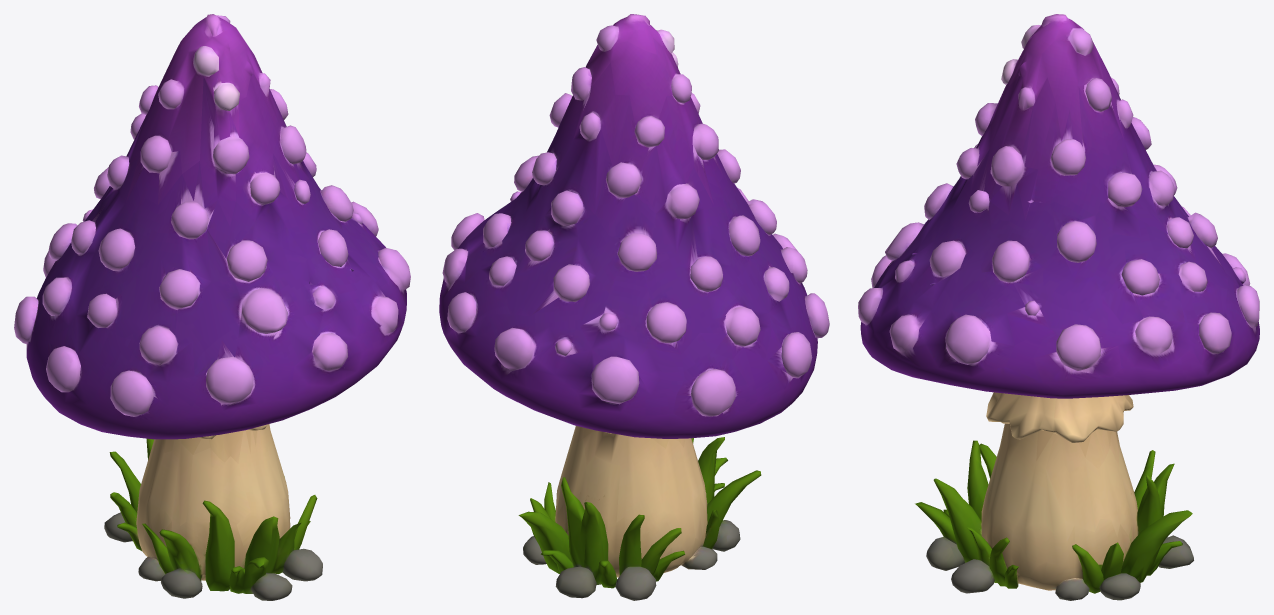
The model's file is shroom_spotted.glb.
3 renders of one model, left to right at view 1: azimuth 30°, elevation 25°; view 2: azimuth 150°, elevation 25°; view 3: azimuth 270°, elevation 25°, orthographic. The views are drawn at different scales.
Visible parts, largest first — view 1: tripo_node_fa63915f-ca78-4fd6-ae6a-f5e3b34e1282; view 2: tripo_node_fa63915f-ca78-4fd6-ae6a-f5e3b34e1282; view 3: tripo_node_fa63915f-ca78-4fd6-ae6a-f5e3b34e1282.
Boxes of the visible parts, bbox=[...] form: tripo_node_fa63915f-ca78-4fd6-ae6a-f5e3b34e1282: bbox=[14, 14, 410, 600]; tripo_node_fa63915f-ca78-4fd6-ae6a-f5e3b34e1282: bbox=[439, 14, 829, 600]; tripo_node_fa63915f-ca78-4fd6-ae6a-f5e3b34e1282: bbox=[858, 14, 1259, 600].
Bounding box in the file's own units: 0.8511 × 1.3 × 0.8631.
1 material, 1 textured.
